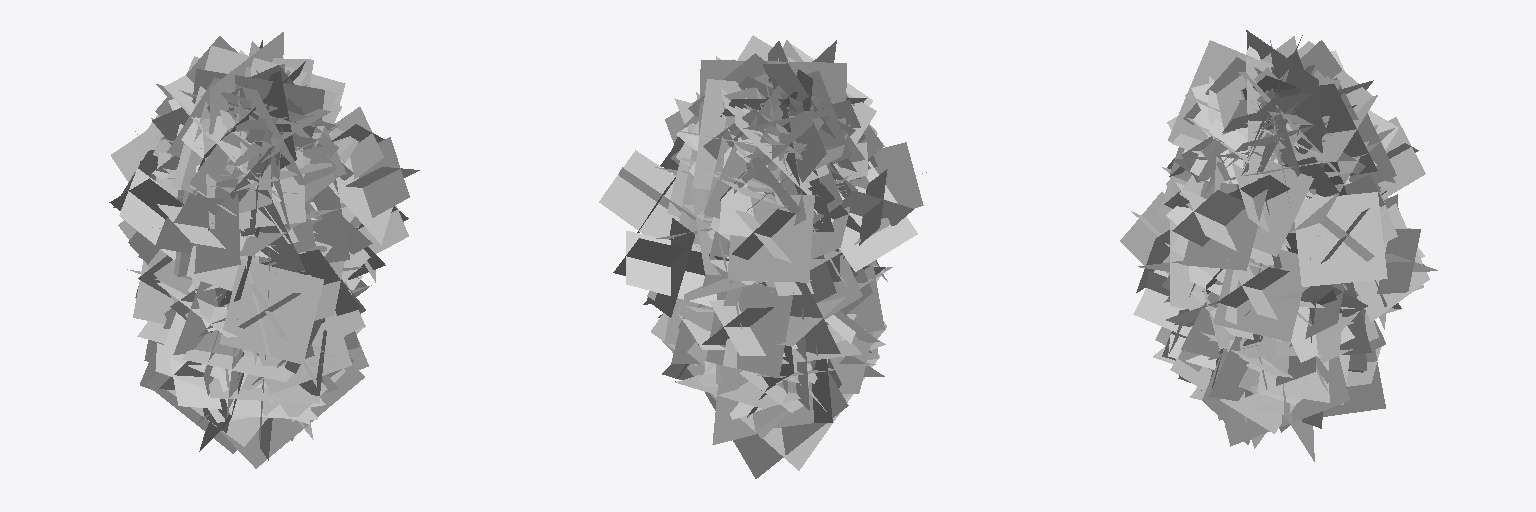
Rendered from Bush_Long_1.obj.
3 views of the same model, side by side, from view 1: azimuth 30°, elevation 25°; view 2: azimuth 150°, elevation 25°; view 3: azimuth 270°, elevation 25° (orthographic).
Visible parts, largest first — view 1: Bush_Long_1; view 2: Bush_Long_1; view 3: Bush_Long_1.
Boxes of the visible parts, <box> form: Bush_Long_1: <box>109,32,419,468</box>; Bush_Long_1: <box>599,35,926,478</box>; Bush_Long_1: <box>1120,30,1437,461</box>.
Bounding box in the file's own units: 1.68 × 2.37 × 1.64.